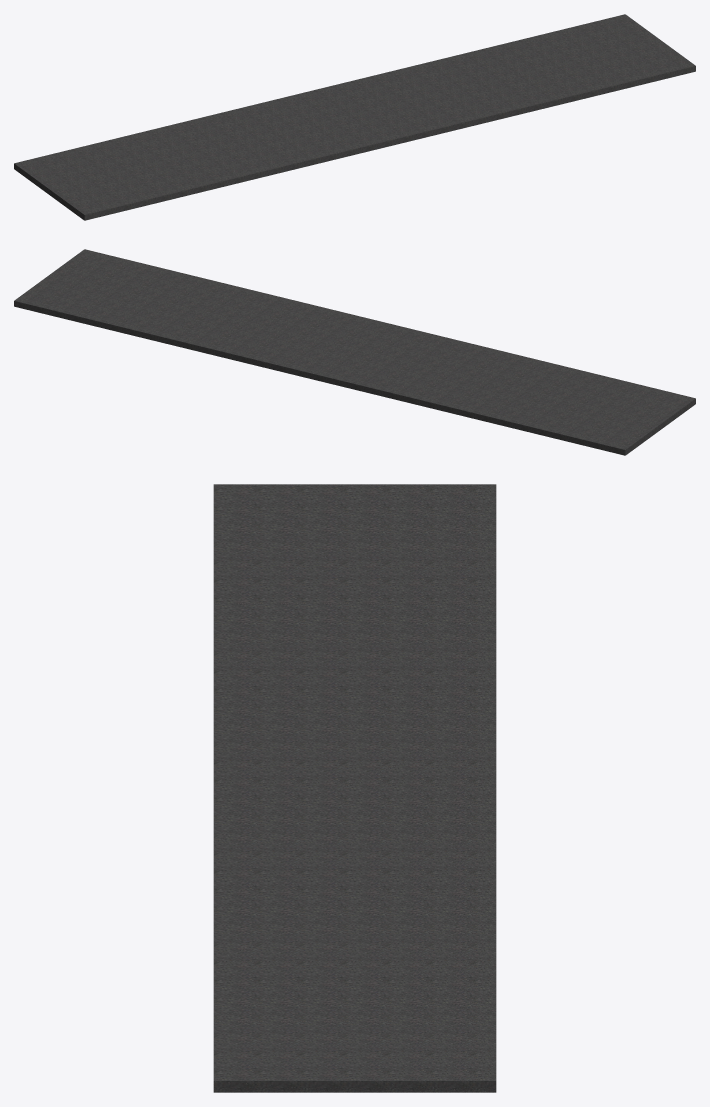
The model's file is normalfloor.dae.
The picture shows the model from 3 angles, top to bottom: view 1: azimuth 30°, elevation 25°; view 2: azimuth 150°, elevation 25°; view 3: azimuth 270°, elevation 25°; orthographic projection. The views are drawn at different scales.
Visible parts, largest first — view 1: SketchUp; view 2: SketchUp; view 3: SketchUp.
Part boxes in pixels (<box>): SketchUp: <box>14,14,695,220</box>; SketchUp: <box>14,249,695,455</box>; SketchUp: <box>213,484,496,1092</box>.
Bounding box in the file's own units: 394 × 78.74 × 3.54.
Materials: 1 (1 with a texture image).
